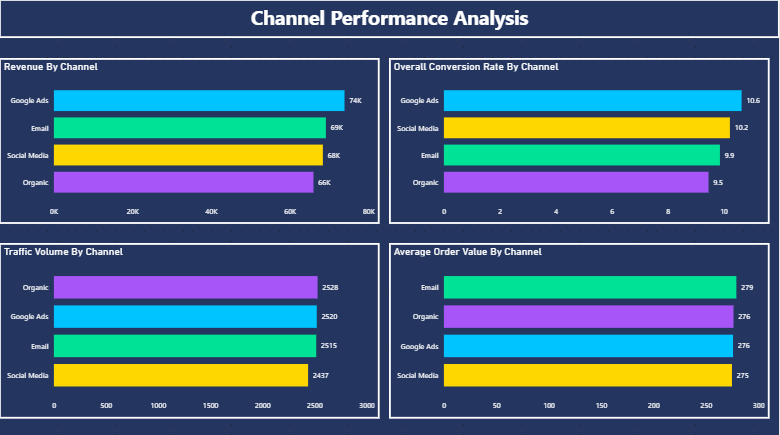

The dashboard page shown, as its layout file describes it:
{"tool":"powerbi","page":{"name":"Channel Performance","canvas":[1280,720],"ordinal":1},"visuals":[{"type":"textbox","box":[0,0,1280,64],"z":0},{"type":"clusteredBarChart","title":"Revenue By Channel","fields":{"Category":["channel_revenue.Channel"],"Y":["Sum(channel_revenue.Total_Revenue)"]},"box":[0,96,624,272],"z":1000},{"type":"clusteredBarChart","title":"Overall Conversion Rate By Channel","fields":{"Y":["channel_summary.Overall Conversion Rate"],"Category":["channel_revenue.Channel"]},"box":[640,96,624,272],"z":2000},{"type":"clusteredBarChart","title":"Traffic Volume By Channel","fields":{"Category":["channel_revenue.Channel"],"Y":["channel_revenue.Browse Traffic"]},"box":[0,400,624,288],"z":3000},{"type":"clusteredBarChart","title":"Average Order Value By Channel","fields":{"Category":["channel_revenue.Channel"],"Y":["channel_revenue.Avg Order Value"]},"box":[640,400,624,288],"z":4000}]}

Visuals, with their boxes in screenshot pixels (x1, y1, x2, y2), scaled from the page's 1280x720 canvas onto the 780x435 screenshot:
textbox: select_region(0, 0, 779, 39)
"Revenue By Channel" clusteredBarChart: select_region(0, 58, 380, 222)
"Overall Conversion Rate By Channel" clusteredBarChart: select_region(390, 58, 770, 222)
"Traffic Volume By Channel" clusteredBarChart: select_region(0, 242, 380, 416)
"Average Order Value By Channel" clusteredBarChart: select_region(390, 242, 770, 416)
